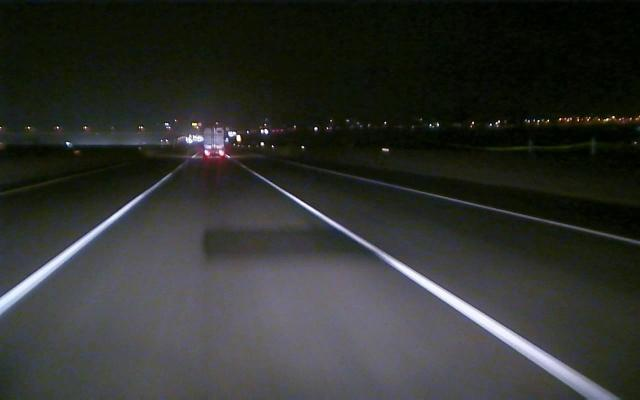lane: (249, 171, 616, 396), (344, 174, 638, 247), (2, 184, 158, 314), (0, 167, 113, 197)
